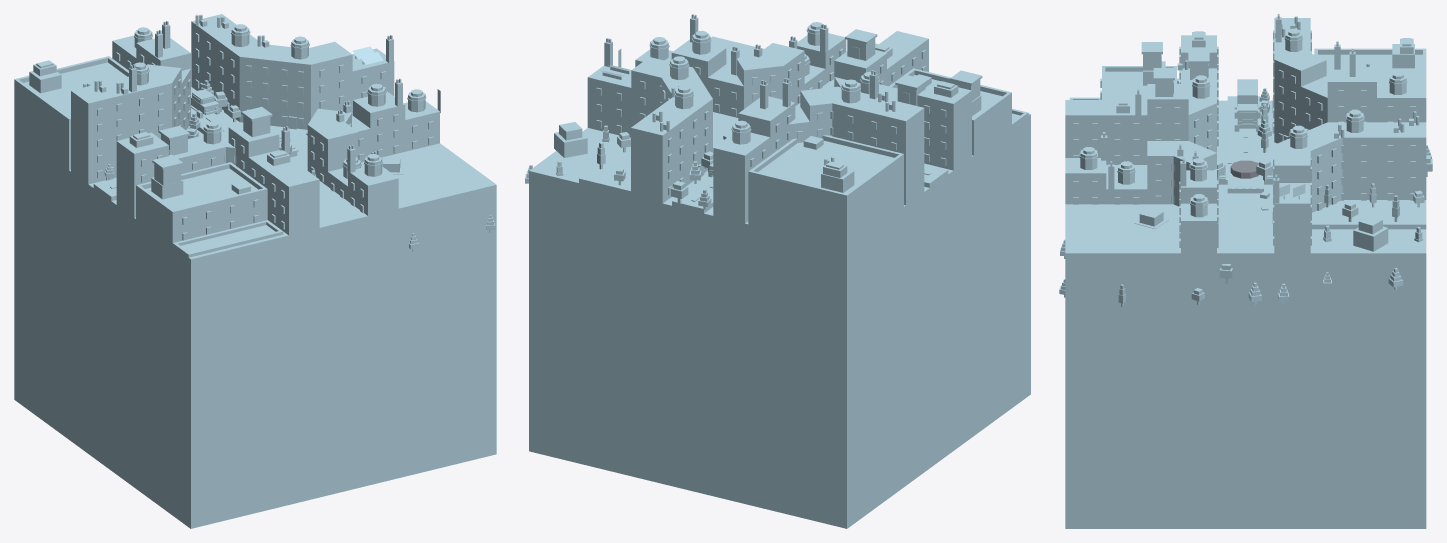
Rendered from block_18_undergroundtanks_100.glb.
The picture shows the model from 3 angles, left to right: view 1: azimuth 30°, elevation 25°; view 2: azimuth 150°, elevation 25°; view 3: azimuth 270°, elevation 25°; orthographic projection. The views are drawn at different scales.
Visible parts, largest first — view 1: Patch_MidRight_b17_UT, Cerda_MidRight_b17_UT, Insets_MidRight_b17_UT, CerdaRoofProps_MidRight_b17_UT, Roads_MidRight_b17_UT, Asset_Car.038_UT; view 2: Patch_MidRight_b17_UT, Cerda_MidRight_b17_UT, Insets_MidRight_b17_UT, CerdaRoofProps_MidRight_b17_UT, Green_MidRight_b17_UT, Roads_MidRight_b17_UT, Asset_Tree_Round.064_UT; view 3: Patch_MidRight_b17_UT, Cerda_MidRight_b17_UT, CerdaRoofProps_MidRight_b17_UT, Green_MidRight_b17_UT, Insets_MidRight_b17_UT, Roads_MidRight_b17_UT, Asset_Truck.010_UT, Asset_Tree_Round.064_UT, Zebra_MidRight_b17_UT, UT_TankUnit_18, Asset_Tree_Round.070_UT.
Boxes of the visible parts, x1,y1,x2,y2 form: Patch_MidRight_b17_UT: [14, 87, 496, 528]; Cerda_MidRight_b17_UT: [71, 14, 439, 266]; Insets_MidRight_b17_UT: [14, 56, 283, 274]; CerdaRoofProps_MidRight_b17_UT: [33, 14, 440, 185]; Roads_MidRight_b17_UT: [93, 91, 358, 259]; Asset_Car.038_UT: [191, 89, 219, 118]; Patch_MidRight_b17_UT: [529, 36, 1030, 528]; Cerda_MidRight_b17_UT: [587, 31, 971, 223]; Insets_MidRight_b17_UT: [748, 68, 1028, 248]; CerdaRoofProps_MidRight_b17_UT: [601, 14, 982, 177]; Green_MidRight_b17_UT: [529, 146, 645, 208]; Roads_MidRight_b17_UT: [672, 164, 948, 213]; Asset_Tree_Round.064_UT: [554, 122, 587, 157]; Patch_MidRight_b17_UT: [1065, 100, 1426, 528]; Cerda_MidRight_b17_UT: [1065, 18, 1426, 287]; CerdaRoofProps_MidRight_b17_UT: [1079, 14, 1419, 245]; Green_MidRight_b17_UT: [1065, 200, 1426, 304]; Insets_MidRight_b17_UT: [1069, 44, 1426, 99]; Roads_MidRight_b17_UT: [1218, 96, 1272, 287]; Asset_Truck.010_UT: [1234, 79, 1260, 131]; Asset_Tree_Round.064_UT: [1353, 215, 1388, 251]; Zebra_MidRight_b17_UT: [1219, 154, 1273, 189]; UT_TankUnit_18: [1230, 160, 1258, 178]; Asset_Tree_Round.070_UT: [1134, 208, 1168, 228].
Size of the model in its own units: 10.09 by 11.16 by 9.82.
